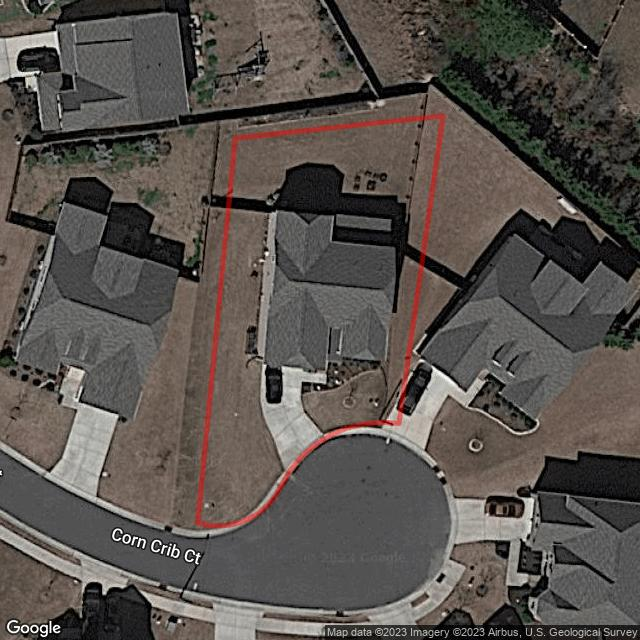Driveway: (260, 364, 326, 469)
House: (252, 206, 399, 371)
